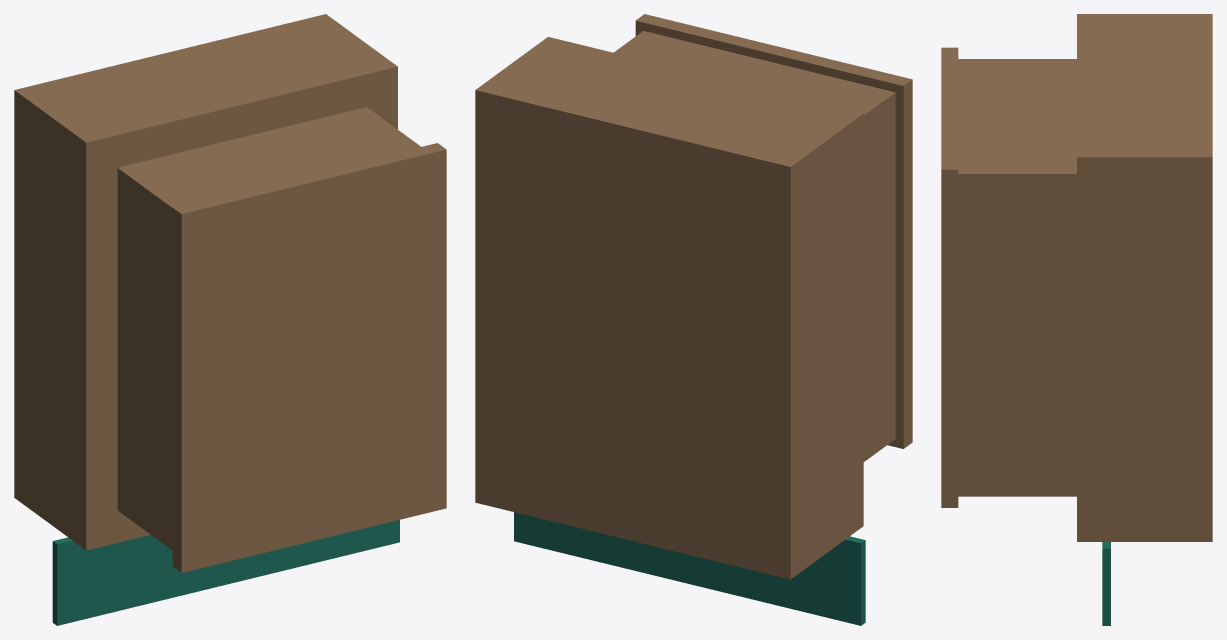
The model's file is SM_Mudbrick_Dwelling.obj.
3 renders of one model, left to right at view 1: azimuth 30°, elevation 25°; view 2: azimuth 150°, elevation 25°; view 3: azimuth 270°, elevation 25°, orthographic. The views are drawn at different scales.
Visible parts, largest first — view 1: Mudbrick, PatinaBronze; view 2: Mudbrick, PatinaBronze; view 3: Mudbrick, PatinaBronze.
Boxes of the visible parts, <box> form: Mudbrick: <box>14,14,446,572</box>; PatinaBronze: <box>52,520,399,625</box>; Mudbrick: <box>475,14,912,579</box>; PatinaBronze: <box>514,512,865,625</box>; Mudbrick: <box>941,14,1212,541</box>; PatinaBronze: <box>1102,542,1110,625</box>.
Bounding box in the file's own units: 880 × 1200 × 640.
